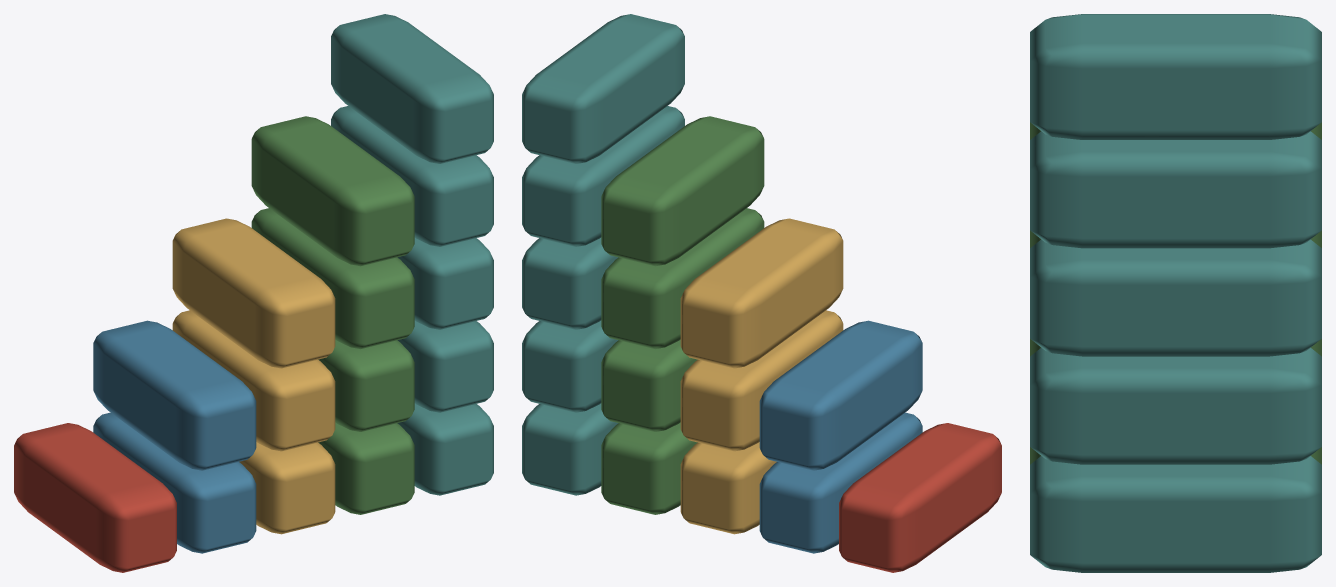
The model's file is wp-escalier-de-cubes.glb.
3 views of the same model, side by side, from view 1: azimuth 30°, elevation 25°; view 2: azimuth 150°, elevation 25°; view 3: azimuth 270°, elevation 25° (orthographic). The views are drawn at different scales.
Visible parts, largest first — view 1: wp-escalier-de-cubes; view 2: wp-escalier-de-cubes; view 3: wp-escalier-de-cubes.
Boxes of the visible parts, x1=… form: wp-escalier-de-cubes: x1=14, y1=14, x2=493, y2=572; wp-escalier-de-cubes: x1=522, y1=14, x2=1001, y2=572; wp-escalier-de-cubes: x1=1030, y1=14, x2=1321, y2=572.
Bounding box in the file's own units: 0.6 × 0.6 × 0.3.
